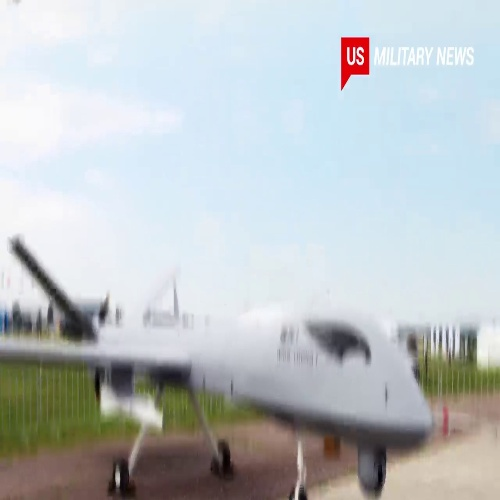uav200: (1, 231, 441, 499)
